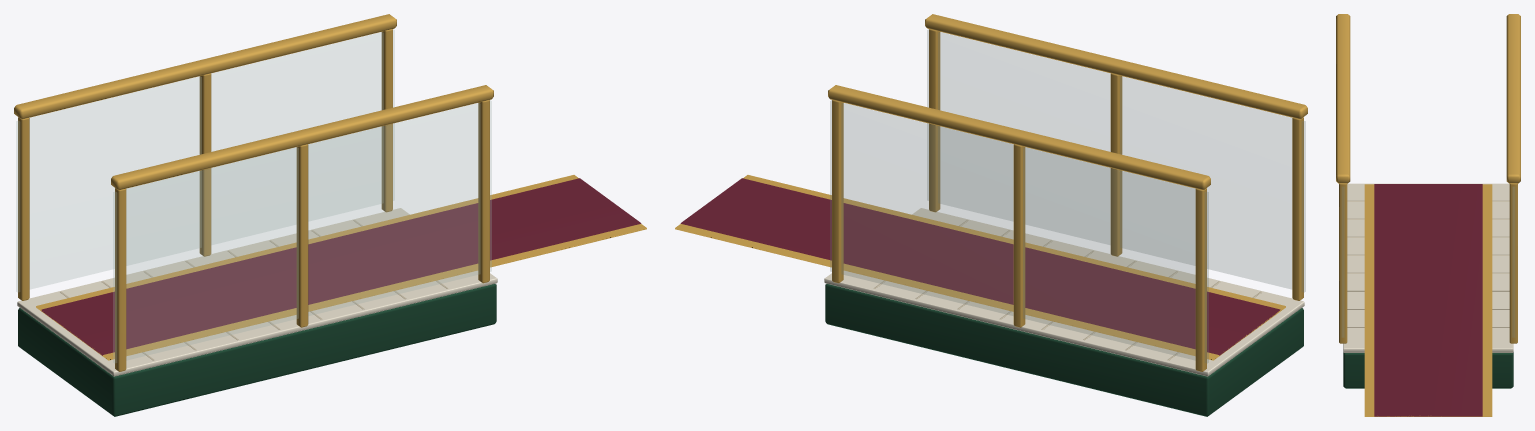
The model's file is lounge_bridge.glb.
The picture shows the model from 3 angles, left to right: view 1: azimuth 30°, elevation 25°; view 2: azimuth 150°, elevation 25°; view 3: azimuth 270°, elevation 25°; orthographic projection. The views are drawn at different scales.
Parts seen in each view (by area): view 1: GlassS, GlassN, Runner, Slab, Boards, RunnerBrass, RailS, RailN, PostS1, PostN0, PostS0, PostS2 (+2 smaller); view 2: GlassN, GlassS, Runner, Slab, Boards, RunnerBrass, RailN, RailS, PostN1, PostS0, PostN0, PostN2 (+2 smaller); view 3: Runner, Boards, RunnerBrass, RailN, RailS, Slab, PostN2, PostS2, GlassN, GlassS.
Part boxes in pixels (x1,y1,x2,y2): GlassS: [113, 100, 491, 363]; GlassN: [16, 29, 394, 292]; Runner: [41, 178, 641, 355]; Slab: [18, 284, 496, 416]; Boards: [17, 208, 497, 376]; RunnerBrass: [36, 175, 646, 360]; RailS: [111, 85, 493, 190]; RailN: [14, 14, 396, 119]; PostS1: [296, 144, 308, 327]; PostN0: [18, 117, 29, 300]; PostS0: [115, 188, 126, 371]; PostS2: [478, 100, 489, 283]; GlassN: [830, 100, 1208, 363]; GlassS: [927, 29, 1305, 292]; Runner: [680, 178, 1280, 355]; Slab: [825, 284, 1303, 416]; Boards: [824, 208, 1304, 376]; RunnerBrass: [675, 175, 1285, 360]; RailN: [828, 85, 1210, 190]; RailS: [925, 14, 1307, 119]; PostN1: [1013, 144, 1025, 327]; PostS0: [1292, 117, 1303, 300]; PostN0: [1195, 188, 1206, 371]; PostN2: [832, 100, 843, 283]; Runner: [1374, 184, 1482, 416]; Boards: [1343, 183, 1513, 352]; RunnerBrass: [1364, 184, 1492, 416]; RailN: [1506, 14, 1520, 183]; RailS: [1336, 14, 1350, 183]; Slab: [1343, 352, 1513, 388]; PostN2: [1509, 183, 1517, 343]; PostS2: [1339, 183, 1347, 343]; GlassN: [1512, 187, 1514, 337]; GlassS: [1342, 187, 1344, 337].
Bounding box in the file's own units: 2.31 × 0.9711 × 0.7692.
